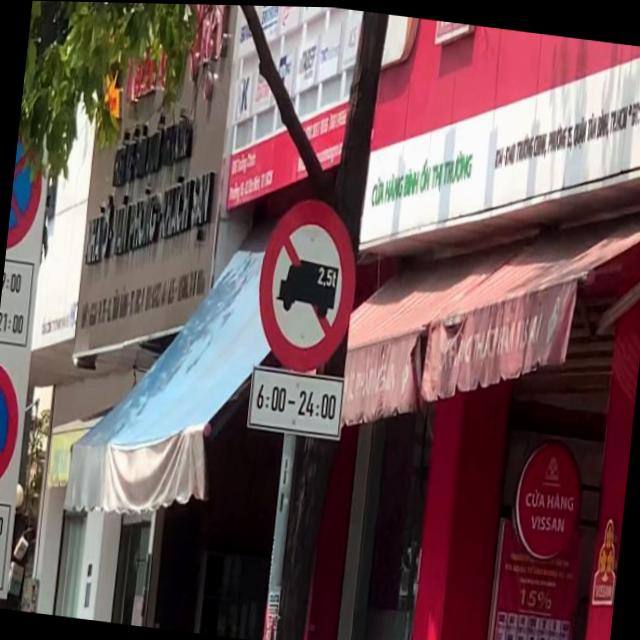Cam do xe: (0, 358, 25, 494)
Cam dung xe va do xe: (6, 120, 48, 254)
Cam xe tai tren 2_5: (250, 190, 364, 376)
